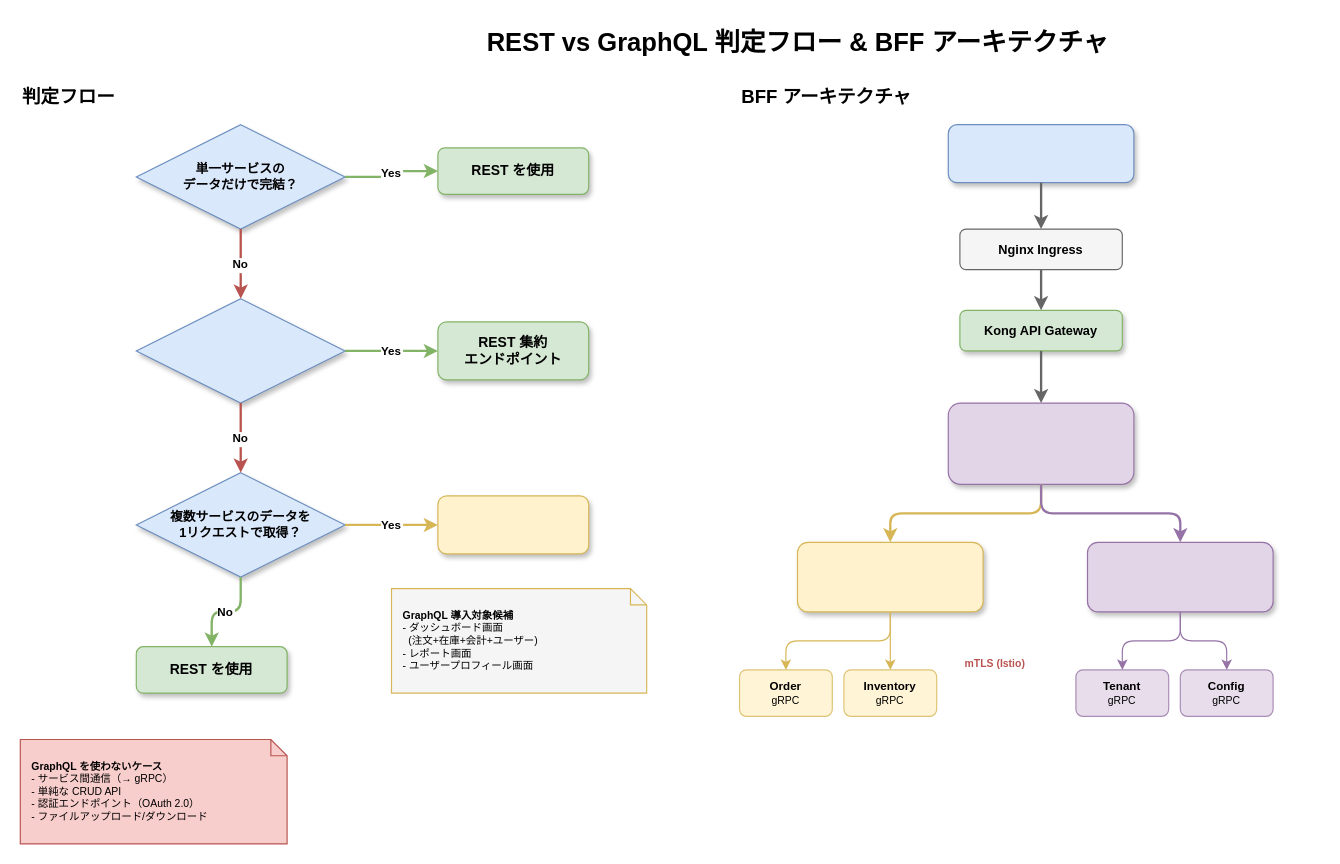
The diagram is 1340 pixels wide and 864 high, and some of its shapes have lost their labels. The shapes that lost their labels are listed below. From the top down, each one's centre as x and y in pixels, then its label:
At (1041,155): "Client (React / Flutter)".
At (241,352): "必要なフィールドは 固定的？".
At (1041,444): "BFF Proxy system tier Cookie ⇄ Bearer 変換 token refresh".
At (514,526): "GraphQL BFF を採用".
At (891,578): "GraphQL BFF service tier（オプション） 複数サービスの集約".
At (1181,578): "GraphQL Gateway system tier 基盤サービス集約".
